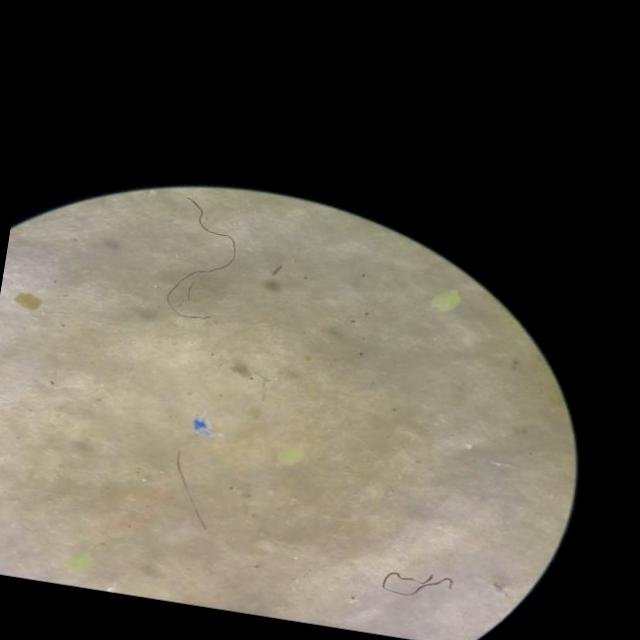fiber: (167, 198, 236, 318), (177, 451, 207, 530), (382, 572, 454, 596)
fragment: (433, 291, 460, 311), (15, 292, 42, 311), (278, 446, 304, 465), (67, 553, 93, 572)
pellet: (465, 444, 473, 449)
